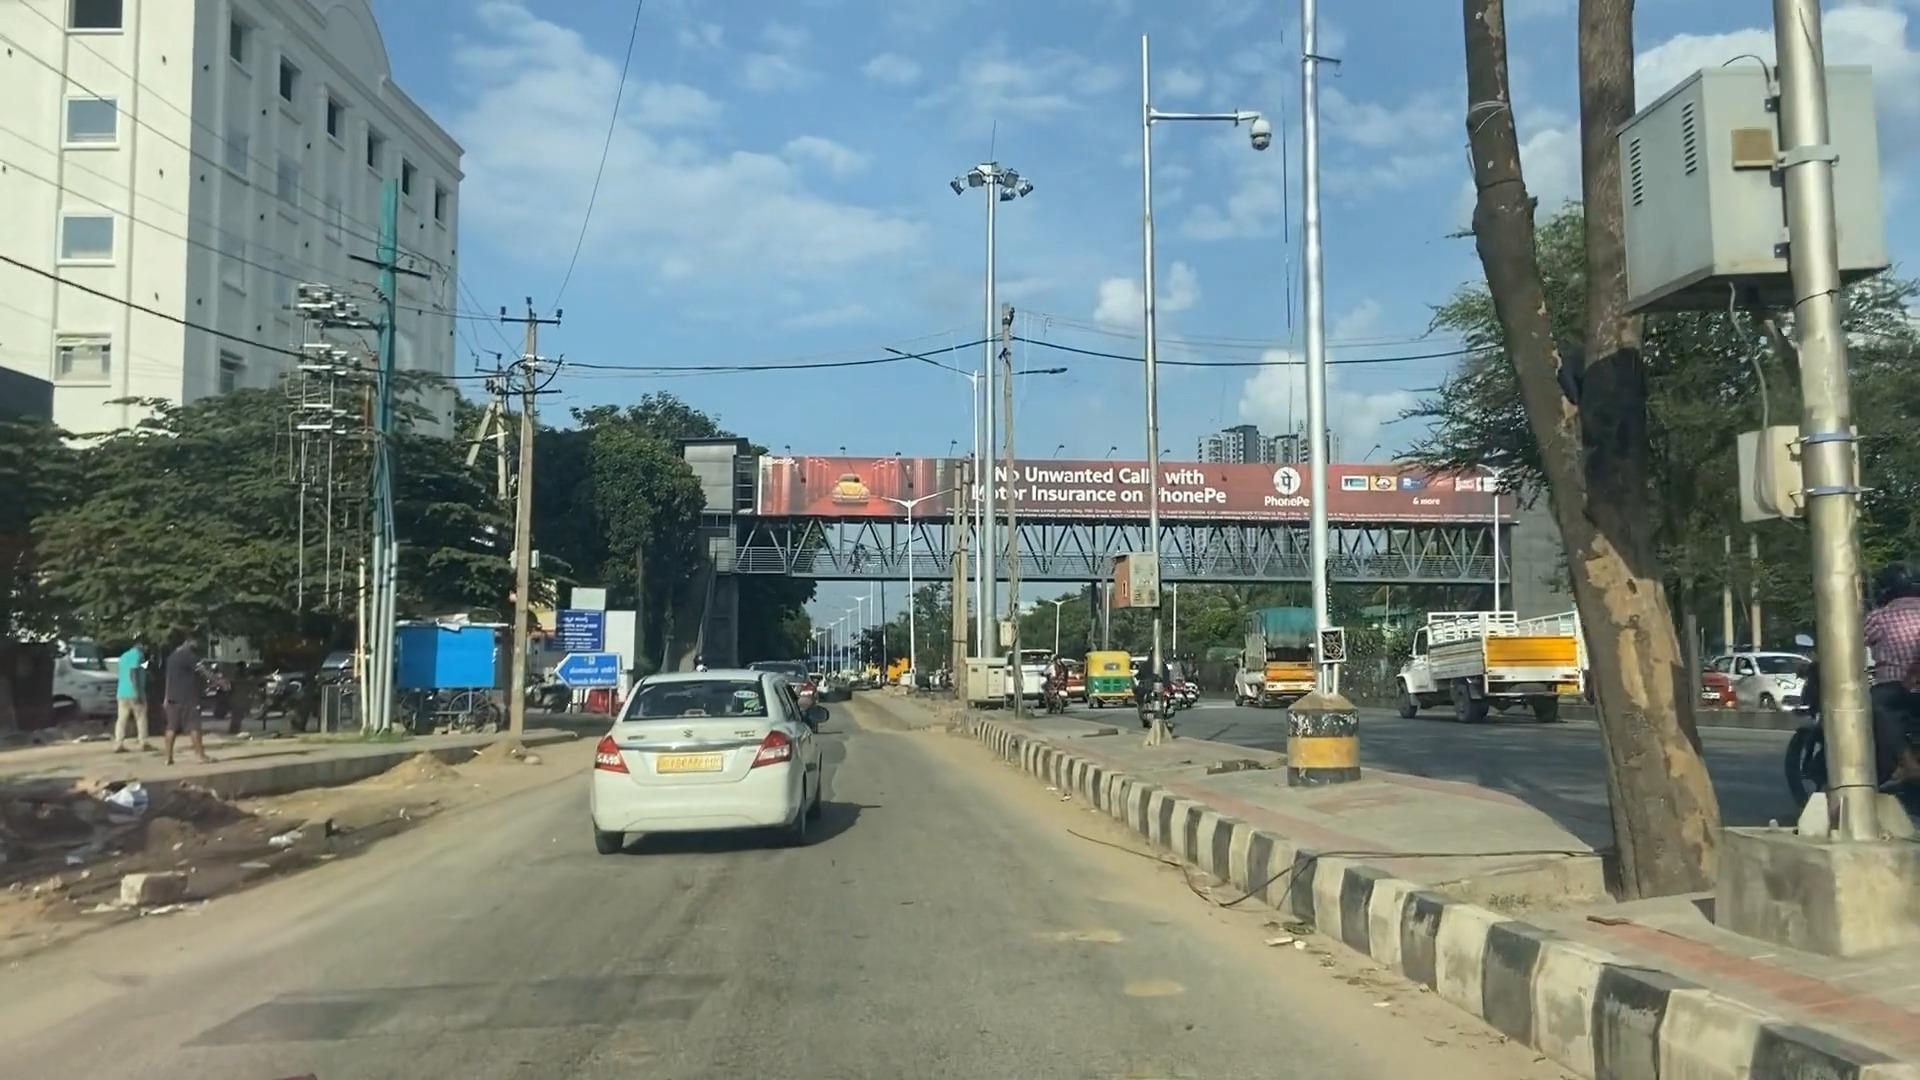LMV: (593, 663, 827, 862)
UnsurfacedRoad: (318, 901, 920, 1080)
